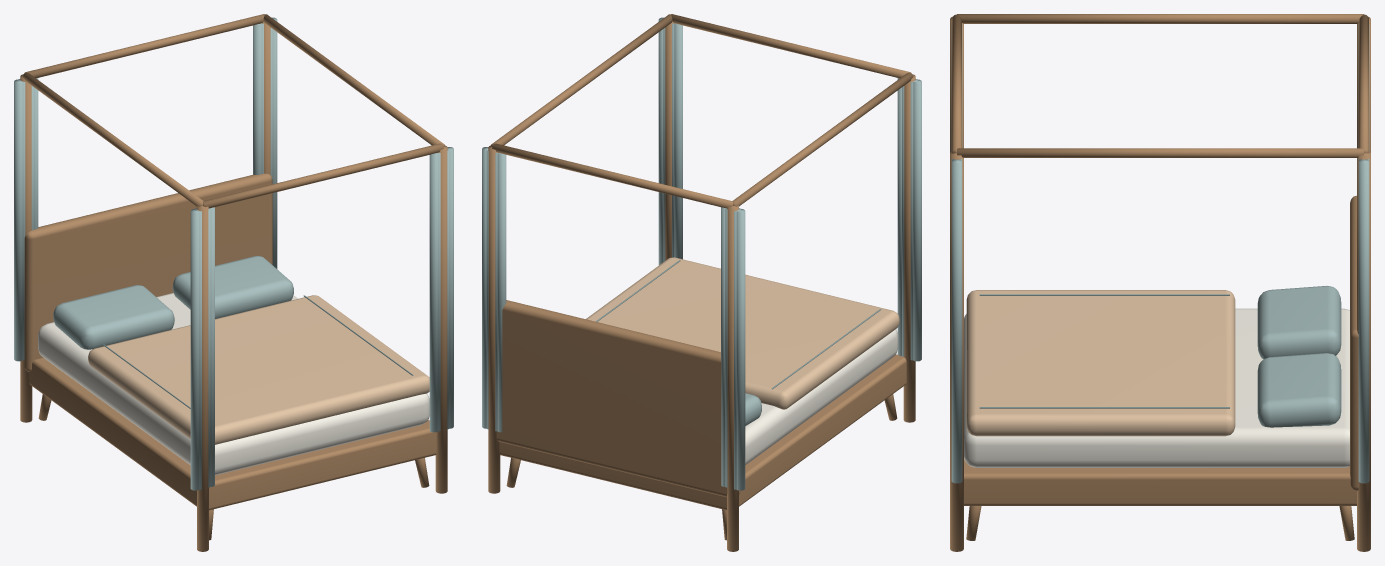
The model's file is atelier-canopy-bed.glb.
3 views of the same model, side by side, from view 1: azimuth 30°, elevation 25°; view 2: azimuth 150°, elevation 25°; view 3: azimuth 270°, elevation 25° (orthographic). The views are drawn at different scales.
Visible parts, largest first — view 1: legs.033, fabric.036, bedding.010, ceramic.010; view 2: legs.033, bedding.010, fabric.036, ceramic.010; view 3: bedding.010, legs.033, fabric.036, ceramic.010, seams.035.
Part boxes in pixels (<box>): legs.033: <box>20,14,447,551</box>; fabric.036: <box>14,17,453,490</box>; bedding.010: <box>88,295,429,444</box>; ceramic.010: <box>38,293,429,475</box>; legs.033: <box>488,14,915,551</box>; bedding.010: <box>586,257,899,409</box>; fabric.036: <box>482,17,921,490</box>; ceramic.010: <box>745,329,898,464</box>; bedding.010: <box>966,290,1235,436</box>; legs.033: <box>950,14,1370,551</box>; fabric.036: <box>951,24,1369,483</box>; ceramic.010: <box>964,308,1349,467</box>; seams.035: <box>979,294,1229,408</box>.
Bounding box in the file's own units: 1.75 × 2.23 × 2.12.
